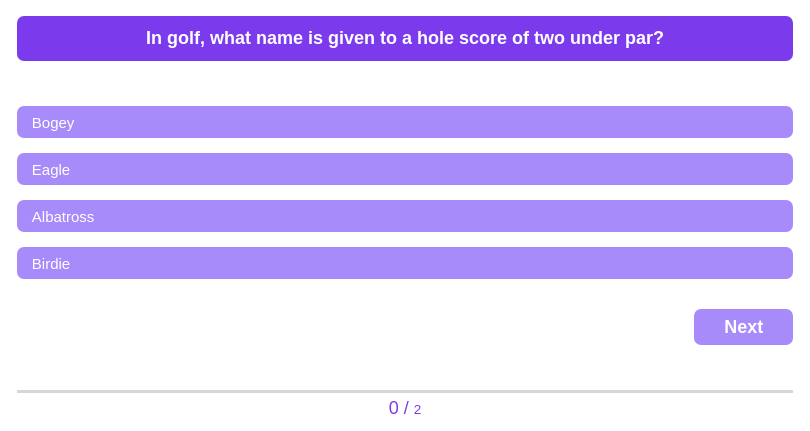
Test: PageQuestions › Section questions › should apply the red color to the incorrect answer and the button is active
The width and height of the screenshot is (810, 431).
expect the button "Next" is disabled: met, box x1=694 y1=309 x2=793 y2=345
What coordinates should you click on to do the following:
click the button "Birdie"
I would click on:
 (51, 263)
Its box is x1=17 y1=247 x2=793 y2=279.
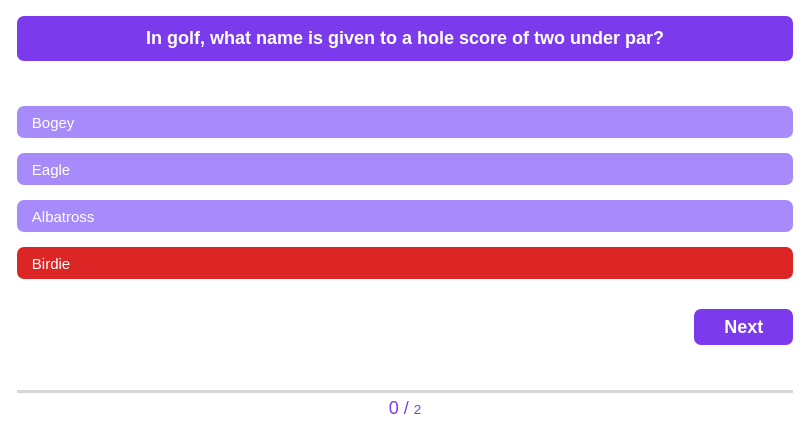
expect the button "Next" is enabled: met, box x1=694 y1=309 x2=793 y2=345
expect the button "Birdie" is disabled: met, box x1=17 y1=247 x2=793 y2=279
